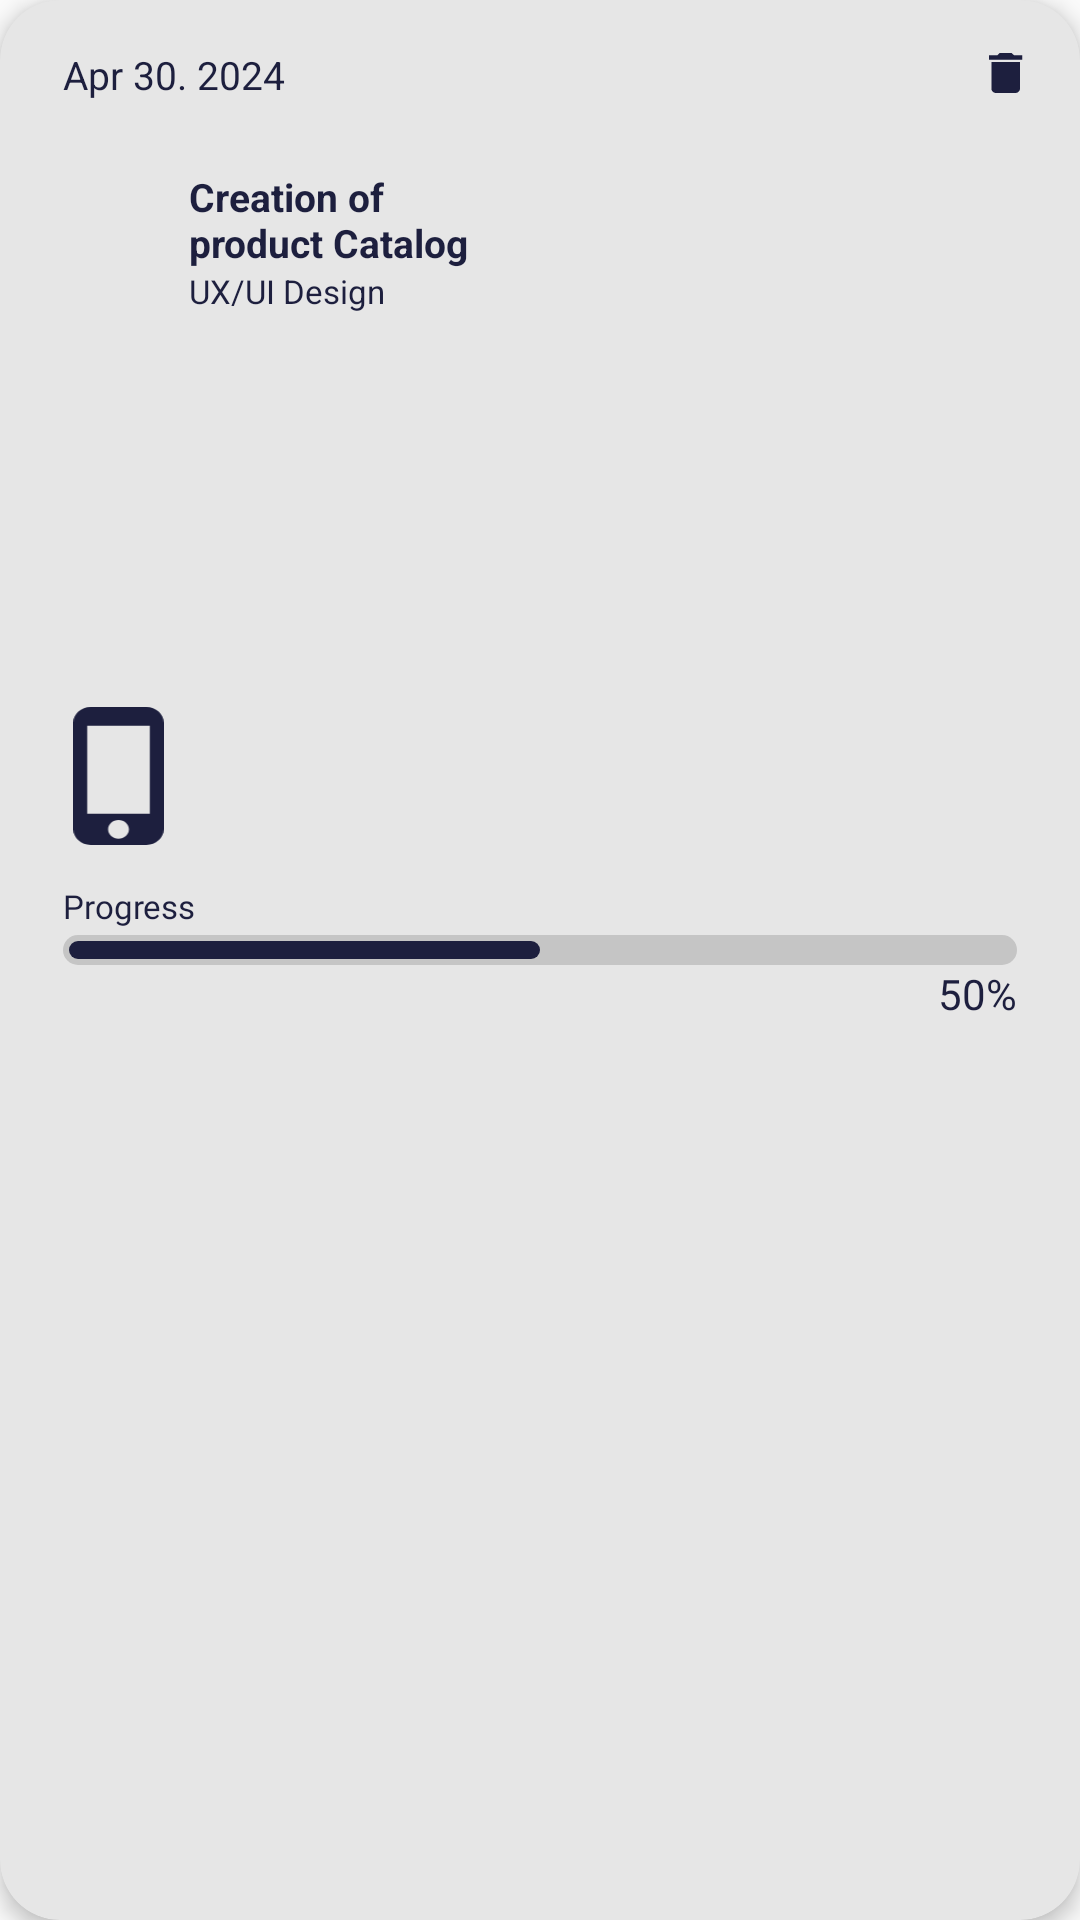

Icon bounding boxes for this 1080 x 1920 phone screenshot, format (x1, y1, x2, y2):
appdesign: (73, 707, 164, 845)
papelera: (989, 53, 1023, 93)
